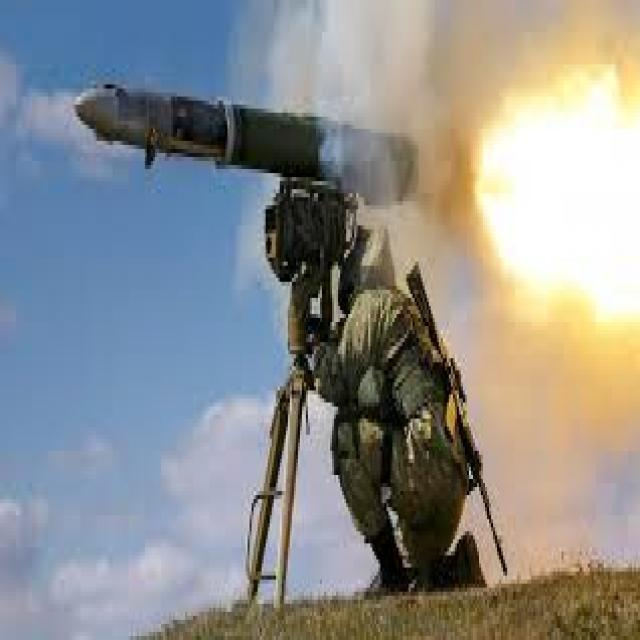Missile: (72, 75, 411, 189)
